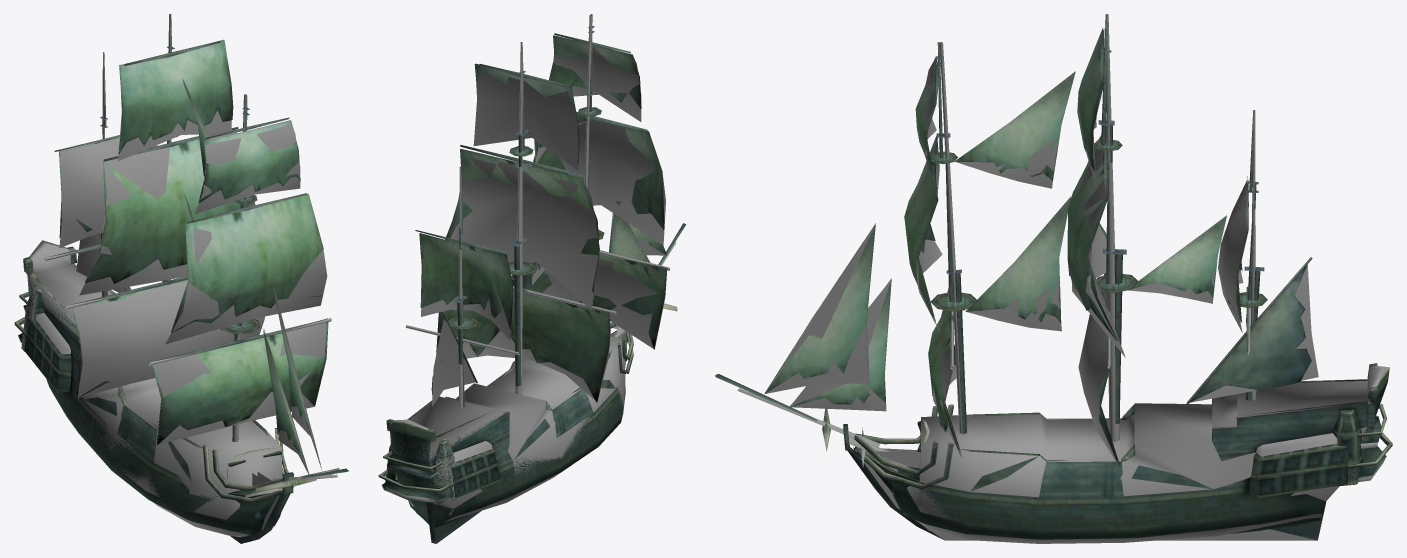
The model's file is F_SecretShip_00.fbx.
3 renders of one model, left to right at view 1: azimuth 30°, elevation 25°; view 2: azimuth 150°, elevation 25°; view 3: azimuth 270°, elevation 25°, orthographic. The views are drawn at different scales.
Visible parts, largest first — view 1: F_SecretShip_00, F_SecretShip_00_FakeShadow; view 2: F_SecretShip_00_FakeShadow, F_SecretShip_00; view 3: F_SecretShip_00, F_SecretShip_00_FakeShadow.
Part boxes in pixels (left/top/right/bottom): F_SecretShip_00: left=14, top=14, right=348, bottom=543; F_SecretShip_00_FakeShadow: left=20, top=21, right=337, bottom=536; F_SecretShip_00_FakeShadow: left=383, top=14, right=675, bottom=522; F_SecretShip_00: left=378, top=14, right=686, bottom=543; F_SecretShip_00: left=715, top=14, right=1392, bottom=540; F_SecretShip_00_FakeShadow: left=737, top=15, right=1386, bottom=543.
Size of the model in its own units: 0.429 by 0.9371 by 1.1.
2 materials, 1 textured.
